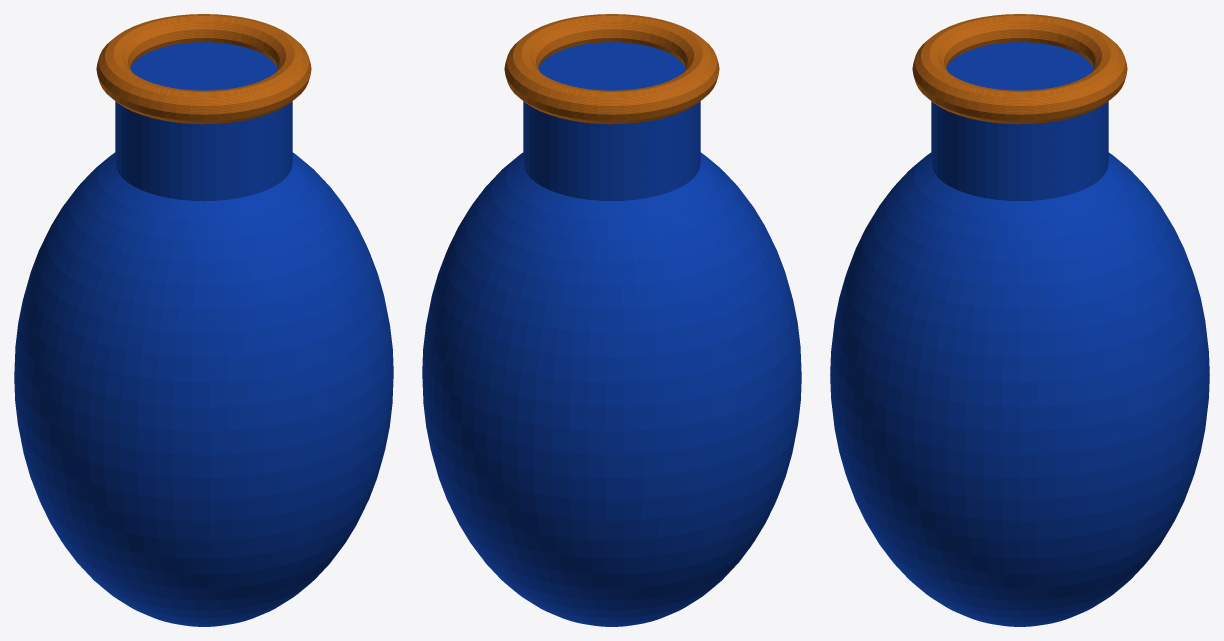
File: vase-ebreche.glb
The picture shows the model from 3 angles, left to right: view 1: azimuth 30°, elevation 25°; view 2: azimuth 150°, elevation 25°; view 3: azimuth 270°, elevation 25°; orthographic projection.
Parts seen in each view (by area): view 1: Sphere, Col, Bord; view 2: Sphere, Col, Bord; view 3: Sphere, Col, Bord.
Boxes of the visible parts, x1,y1,x2,y2 form: Sphere: [14, 152, 393, 626]; Col: [115, 42, 292, 201]; Bord: [96, 14, 311, 124]; Sphere: [422, 152, 801, 626]; Col: [523, 42, 700, 201]; Bord: [504, 14, 719, 124]; Sphere: [830, 152, 1209, 626]; Col: [931, 42, 1108, 200]; Bord: [912, 14, 1127, 124].
Bounding box in the file's own units: 1.8 × 2.93 × 1.8.
2 materials, 2 textured.
